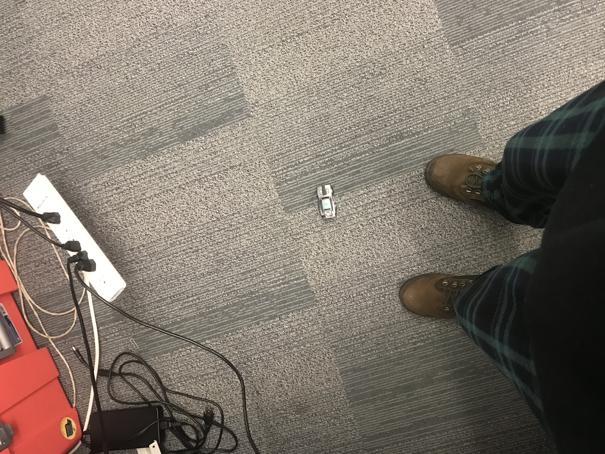Charger: (315, 183, 339, 221)
